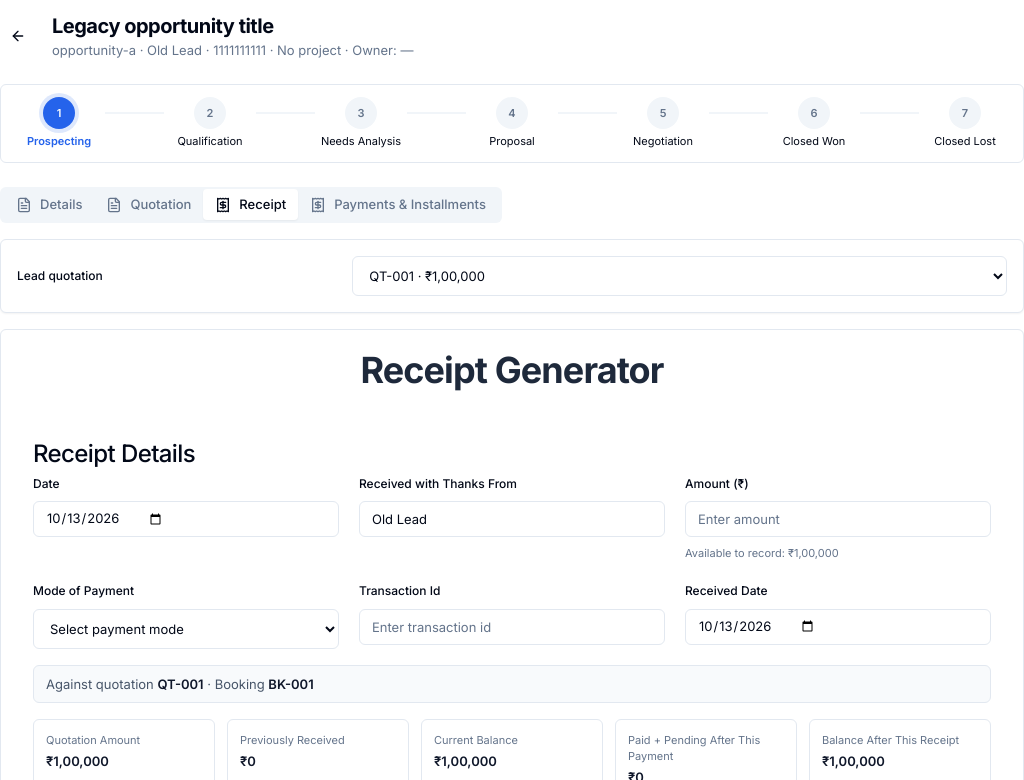
Scenario: OpportunityDetailPage GRE snapshot › selects a quotation belonging to the lead and calculates a partial-payment balance
Check: the dropdown labelled "Lead quotation" shows "QT-001 · ₹1,00,000", box [352, 256, 1007, 296]
In the number field labelled "Amount (₹)": (838, 519) [685, 501, 991, 537], type "100"
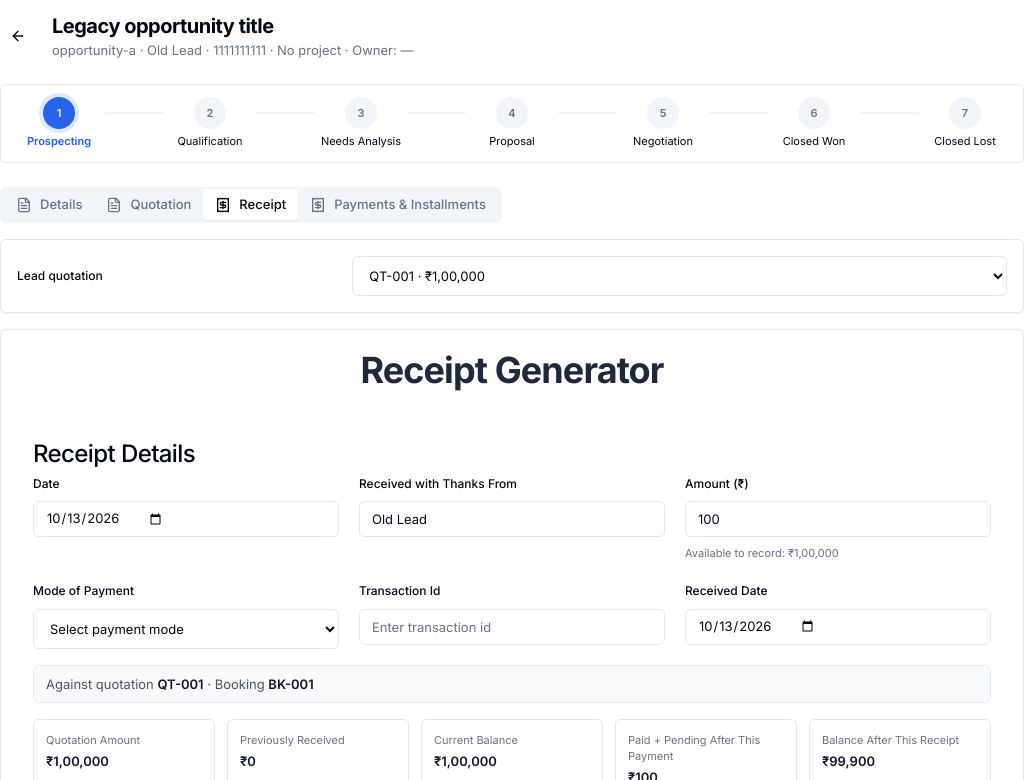
Check: the text "₹99,900" is shown, box [822, 752, 875, 768]
